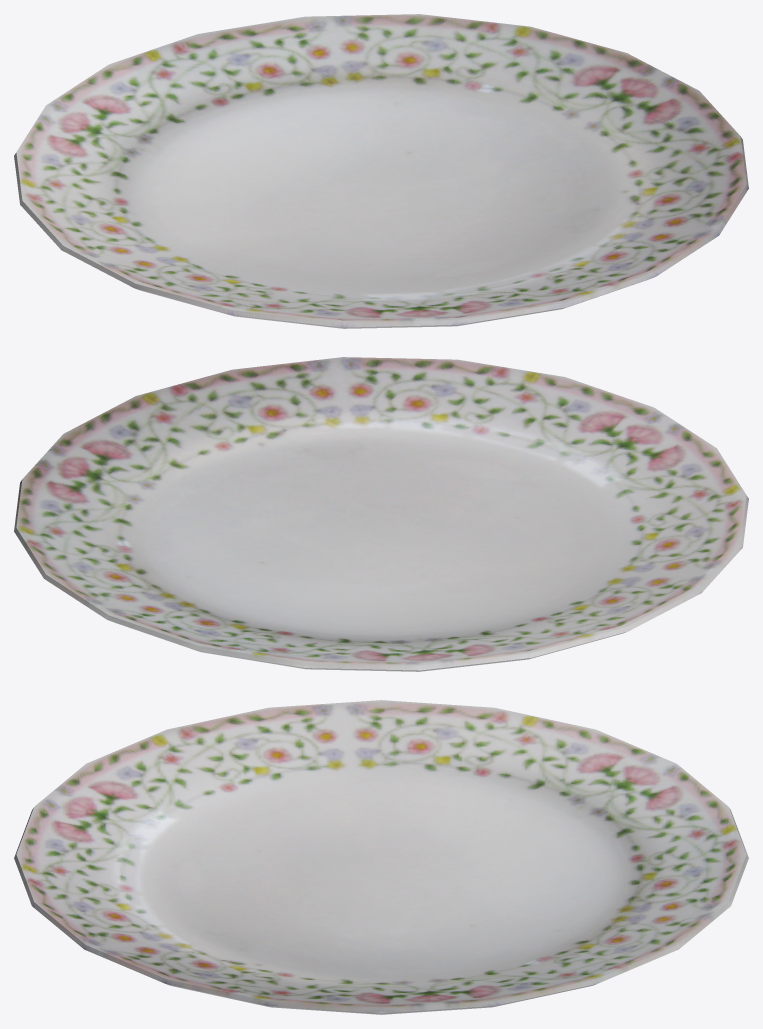
File: dish_B_c01.fbx
The picture shows the model from 3 angles, top to bottom: view 1: azimuth 30°, elevation 25°; view 2: azimuth 150°, elevation 25°; view 3: azimuth 270°, elevation 25°; orthographic projection.
Parts seen in each view (by area): view 1: dish_B_c01; view 2: dish_B_c01; view 3: dish_B_c01.
Boxes of the visible parts, box(x1,y1,x2,y2) form: dish_B_c01: box(14, 14, 748, 328); dish_B_c01: box(14, 357, 748, 671); dish_B_c01: box(14, 700, 748, 1014).
Size of the model in its own units: 8.58 by 0.7795 by 8.58.
Materials: 1 (1 with a texture image).
